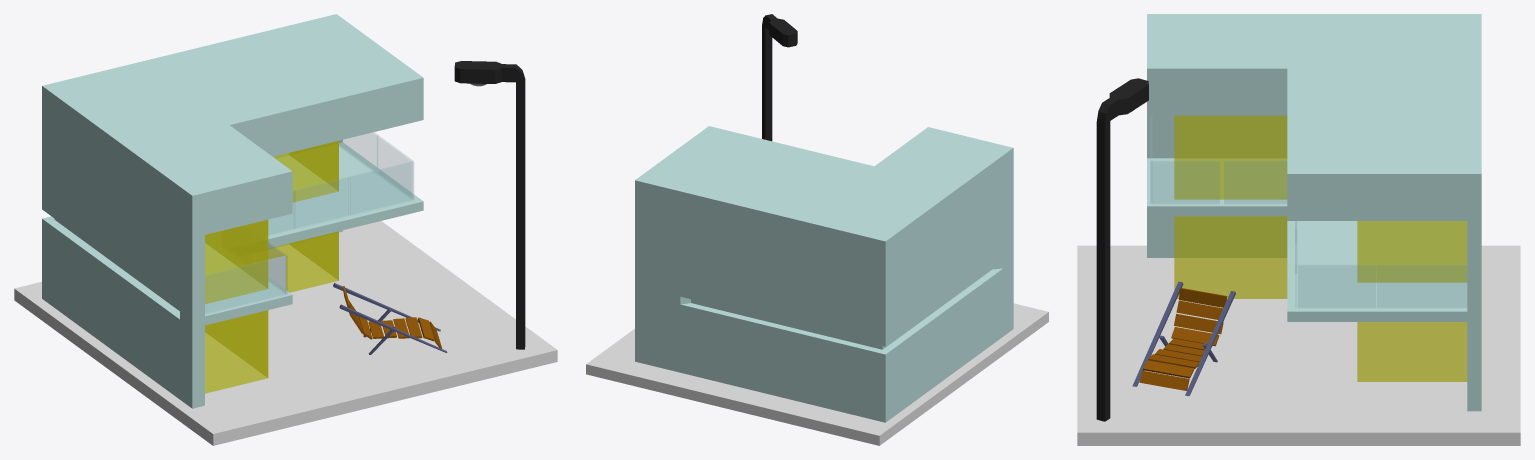
Rendered from House1.fbx.
The picture shows the model from 3 angles, left to right: view 1: azimuth 30°, elevation 25°; view 2: azimuth 150°, elevation 25°; view 3: azimuth 270°, elevation 25°; orthographic projection. The views are drawn at different scales.
Parts seen in each view (by area): view 1: polySurface39; view 2: polySurface39; view 3: polySurface39.
Boxes of the visible parts, bbox=[...] form: polySurface39: bbox=[14, 14, 557, 445]; polySurface39: bbox=[586, 14, 1048, 445]; polySurface39: bbox=[1077, 14, 1520, 445].
Size of the model in its own units: 44.96 by 36.56 by 44.96.
